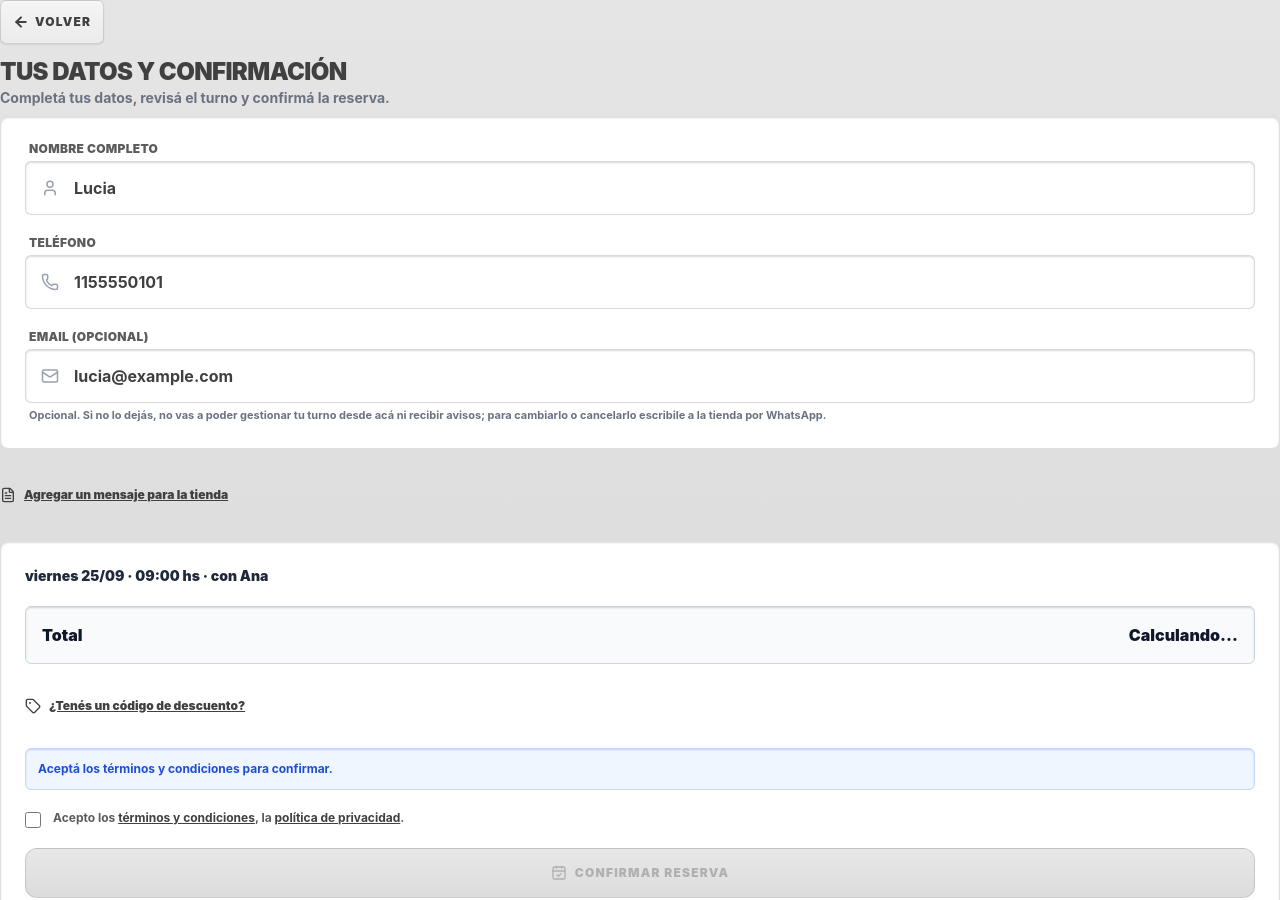
Test: BookingStepConfirmation › formulario › un 422 en client_phone dice que revise el telefono, no que el horario esta ocupado
Click the checkbox at (33,820), box [25,812,41,828]
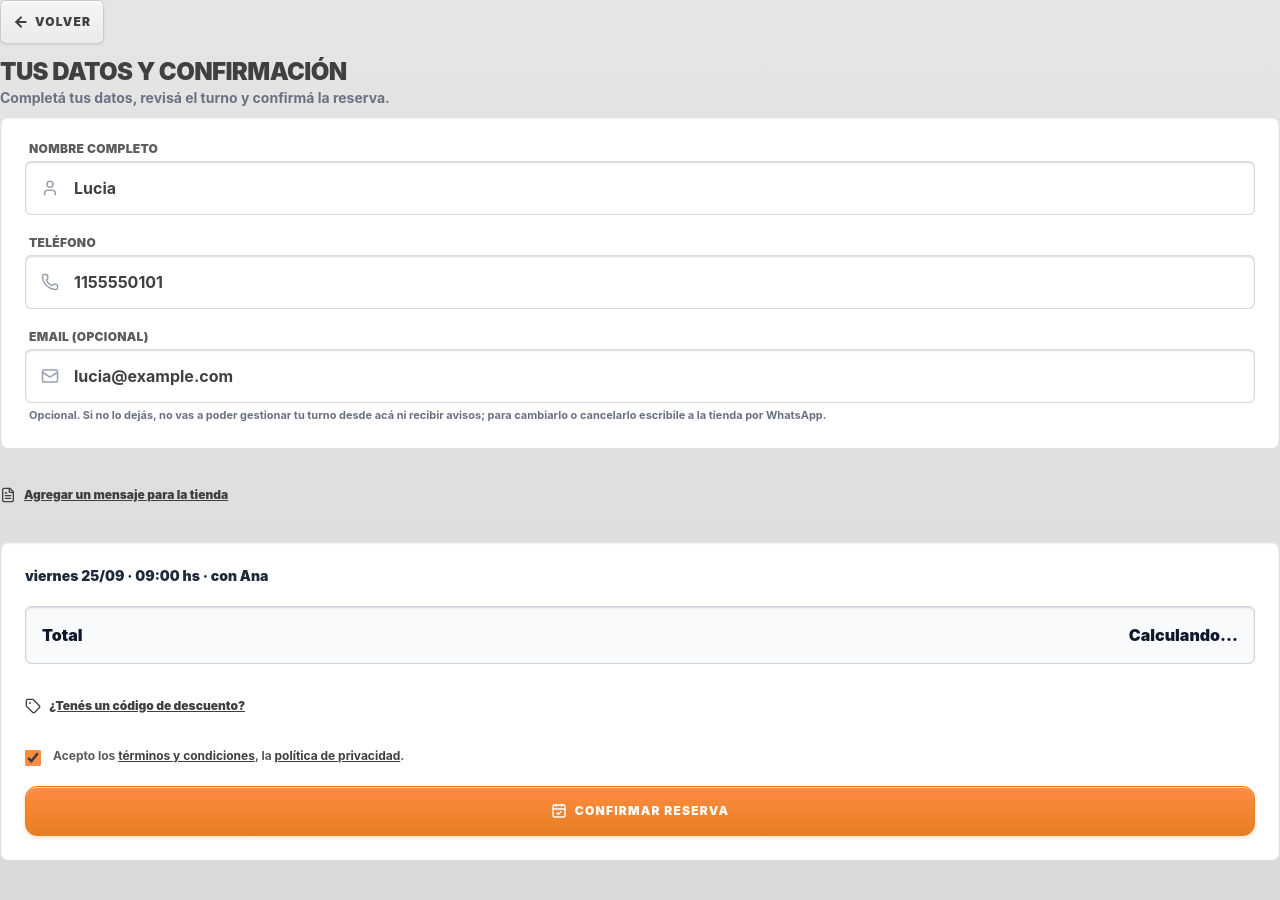
Click the button "Confirmar reserva" at (640,810), box [25,786,1255,836]
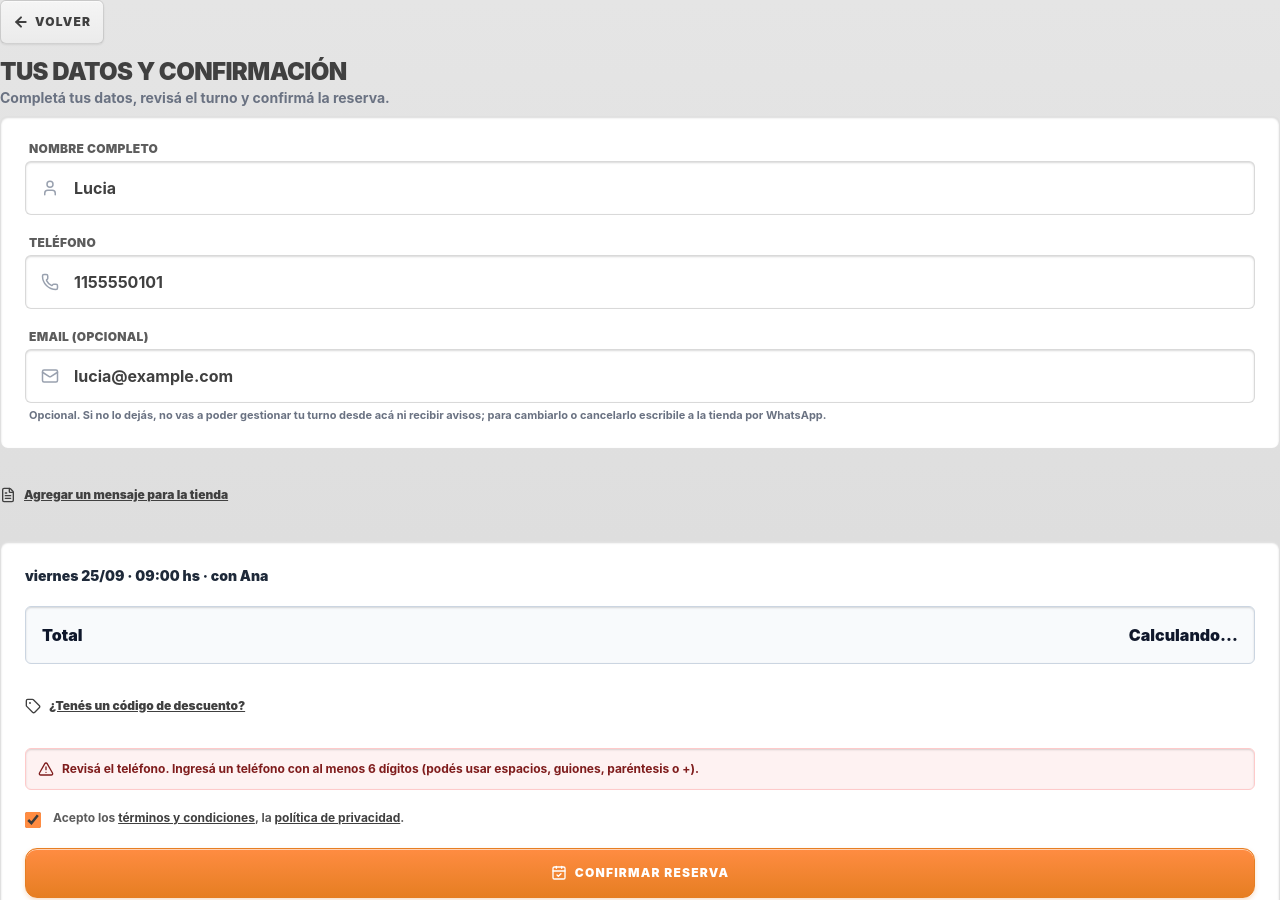
Expected: the text "Revisá el teléfono" does not show "ocupado", [25,748,1255,790]
Expected: the text "Revisá el teléfono" shows "al menos 6 dígitos", [62,760,699,776]
